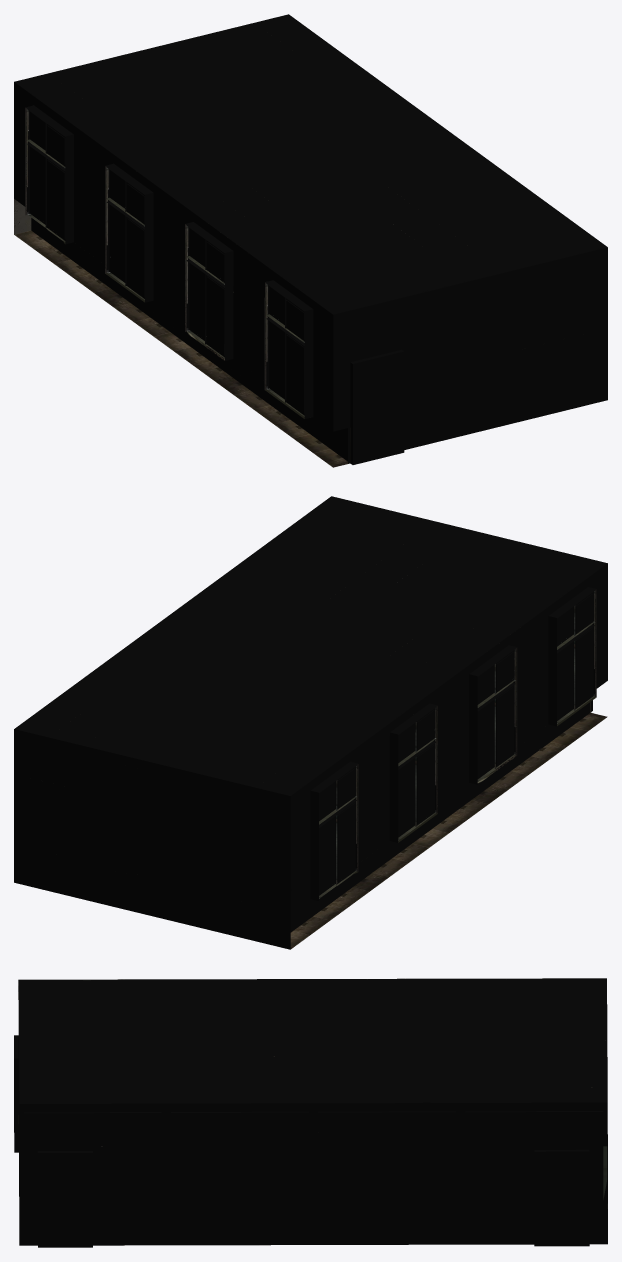
The model's file is env_abandoned_classroom.glb.
3 renders of one model, top to bottom at view 1: azimuth 30°, elevation 25°; view 2: azimuth 150°, elevation 25°; view 3: azimuth 270°, elevation 25°, orthographic. The views are drawn at different scales.
Visible parts, largest first — view 1: Material2 (×2), Material3 (×2); view 2: Material2 (×2), Material3 (×2); view 3: Material2.
Boxes of the visible parts, x1,y1,x2,y2 form: Material2 (×2): [14, 14, 607, 467]; Material3 (×2): [25, 107, 304, 416]; Material2 (×2): [14, 496, 607, 949]; Material3 (×2): [319, 589, 596, 898]; Material2: [14, 978, 607, 1247].
Bounding box in the file's own units: 225 × 114 × 432.
Materials: 10 (9 with a texture image).
